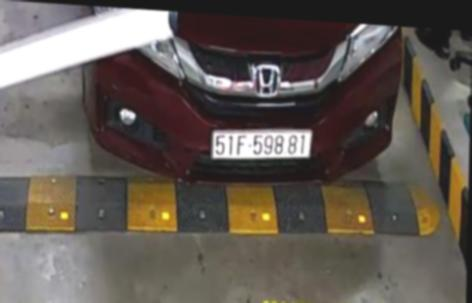License_Plate: (210, 122, 312, 165)
